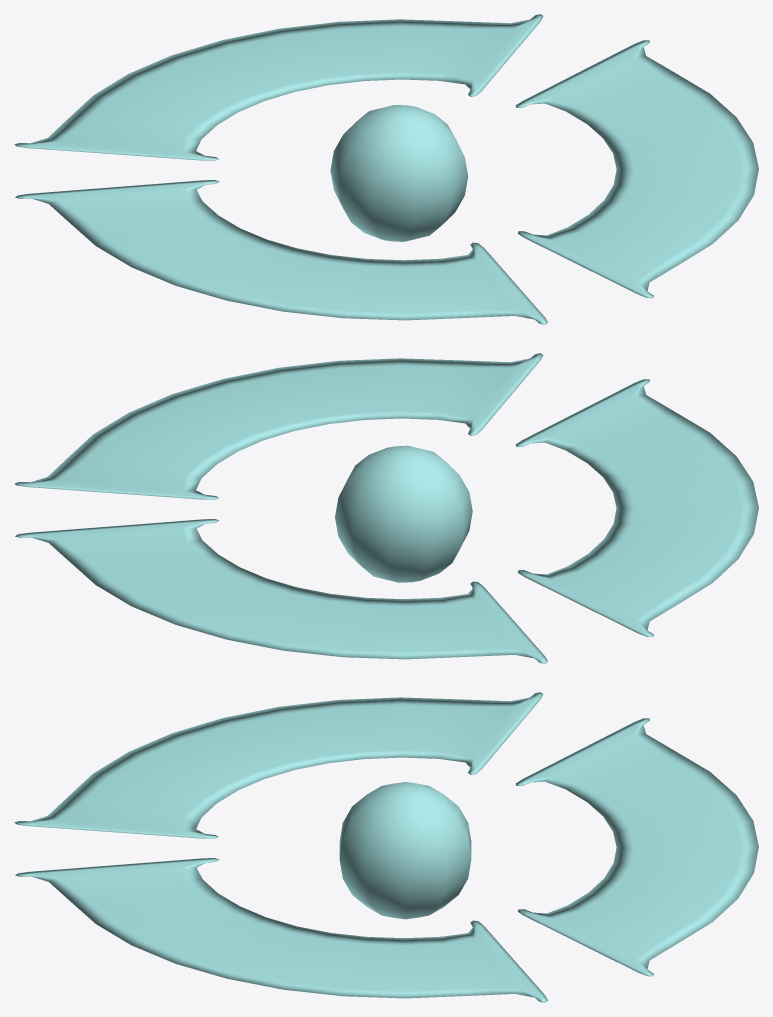
File: Player_Default.fbx
3 renders of one model, top to bottom at view 1: azimuth 30°, elevation 25°; view 2: azimuth 150°, elevation 25°; view 3: azimuth 270°, elevation 25°, orthographic.
Visible parts, largest first — view 1: Player (×2); view 2: Player (×2); view 3: Player (×2).
Part boxes in pixels (box(x1,y1,x2,y2)): Player (×2): box(14, 14, 758, 324); Player (×2): box(14, 353, 758, 663); Player (×2): box(14, 692, 758, 1002).
Bounding box in the file's own units: 2.65 × 0.5 × 2.69.
